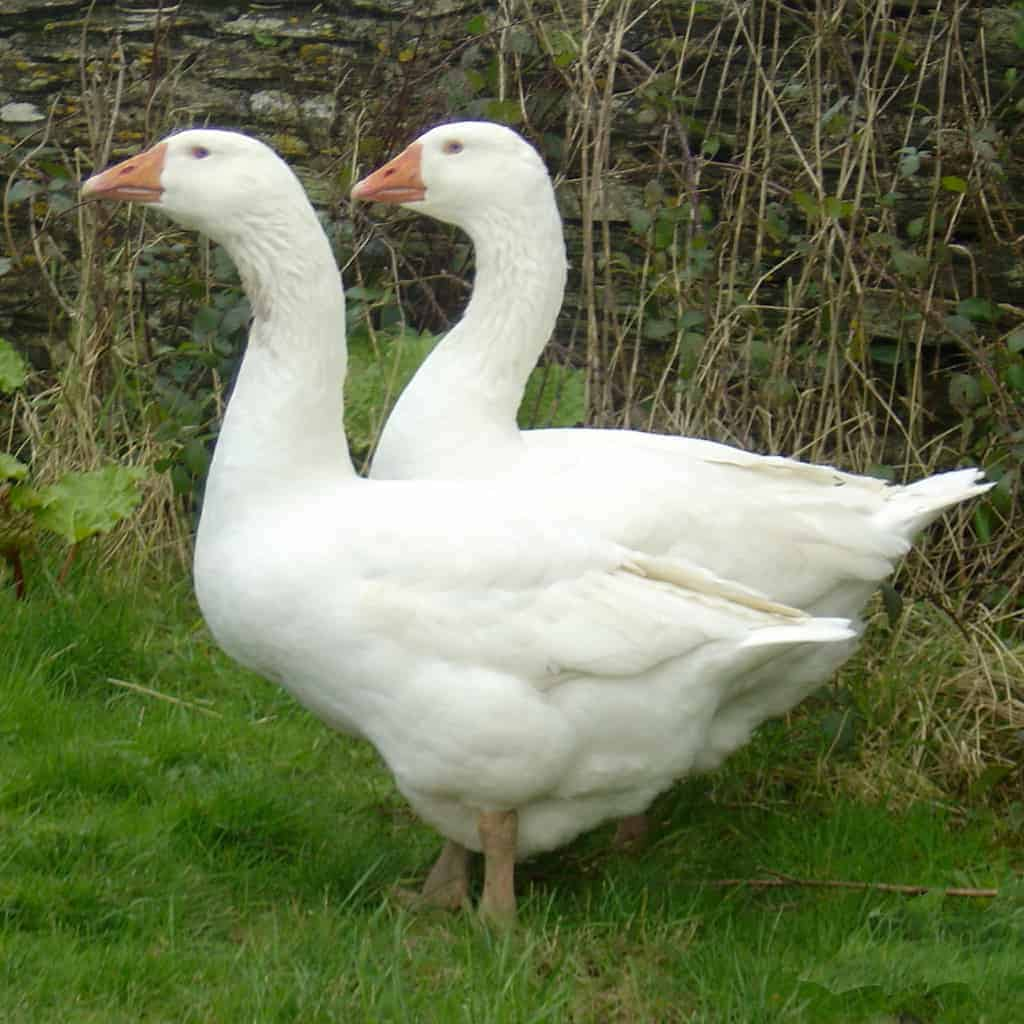goose: (68, 126, 860, 899)
